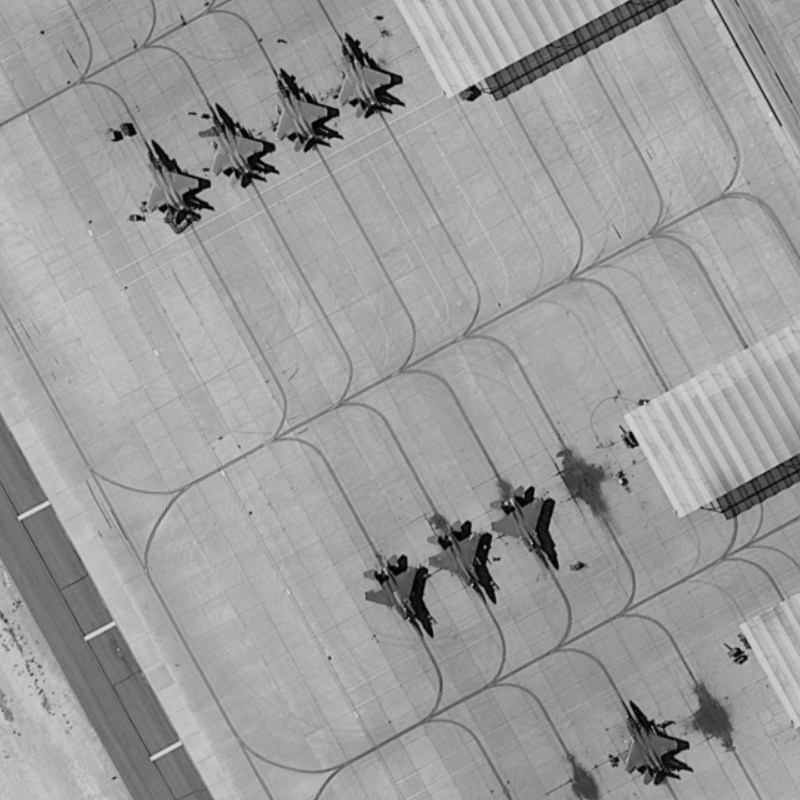A13: (482, 480, 578, 582), (601, 688, 695, 790), (135, 127, 213, 236), (426, 513, 508, 613), (358, 544, 436, 644), (323, 32, 402, 126), (259, 66, 340, 155), (203, 94, 276, 191)
